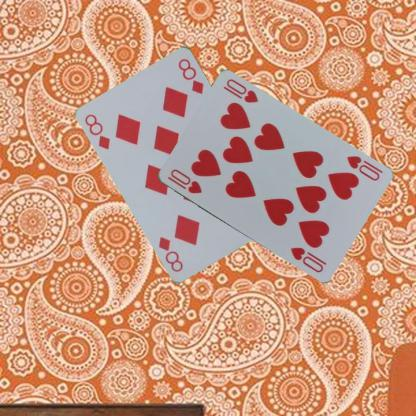10h: (343, 153, 381, 183), (164, 166, 203, 195)
8d: (82, 111, 112, 151)
